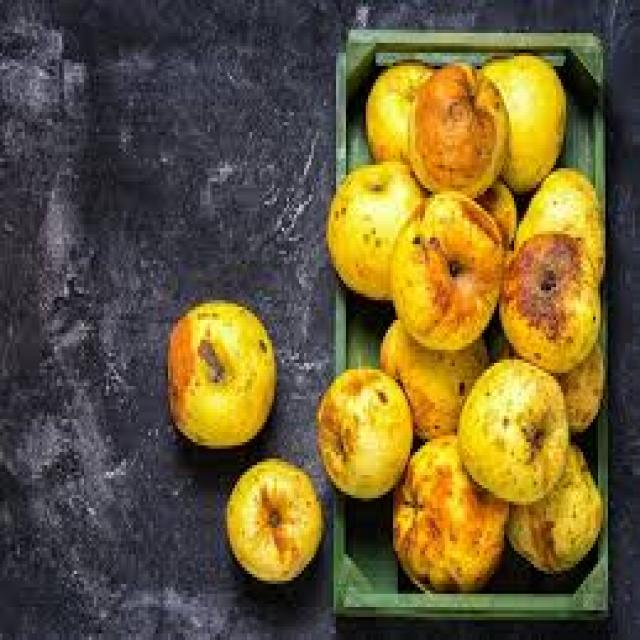food_waste: (394, 94, 574, 533)
